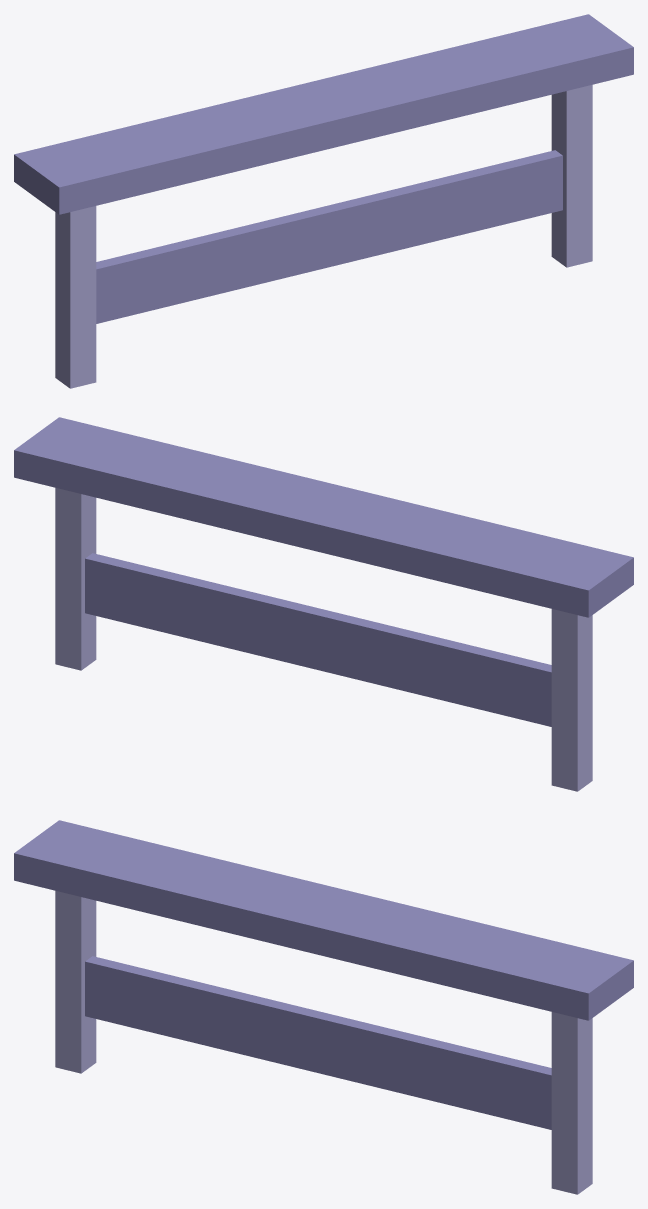
Rendered from fence.fbx.
3 views of the same model, one above another, from view 1: azimuth 30°, elevation 25°; view 2: azimuth 150°, elevation 25°; view 3: azimuth 330°, elevation 25° (orthographic).
Parts seen in each view (by area): view 1: fence_modern%; view 2: fence_modern%; view 3: fence_modern%.
Boxes of the visible parts, box(x1,y1,x2,y2) form: fence_modern%: box(14, 14, 633, 388); fence_modern%: box(14, 417, 633, 791); fence_modern%: box(14, 820, 633, 1194).
Bounding box in the file's own units: 11 × 4 × 1.5.
